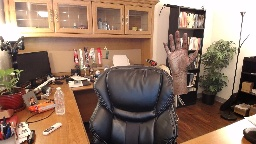Mano_aperta: (161, 29, 199, 74)
